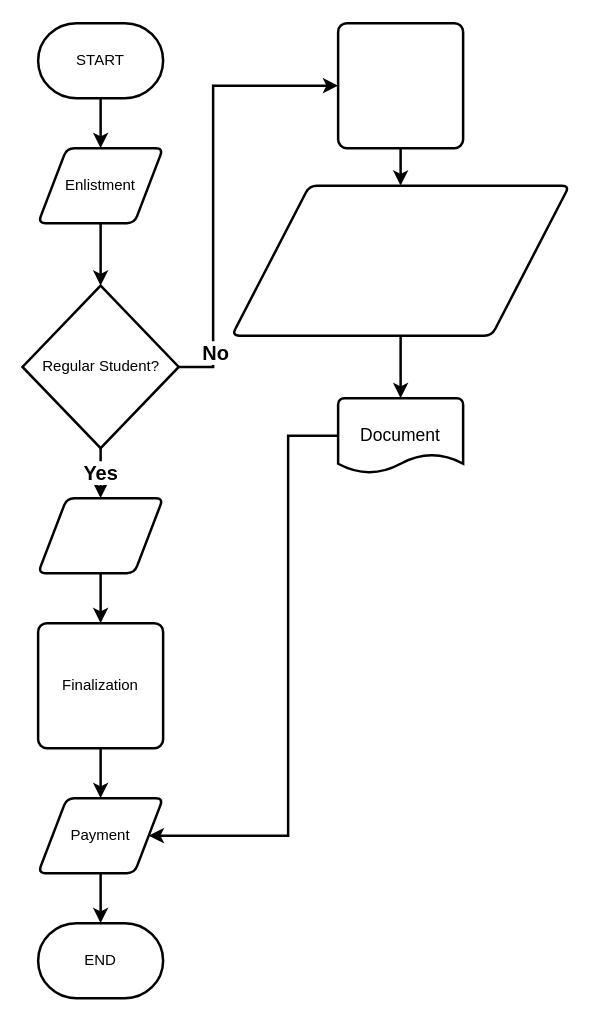
Image size: 593x1020. Some labels were removed from this diagram. Here are the shapes that lost their labels. From the top down, the box of each, then its label:
(336, 21, 464, 149): Program Chair Advising
(230, 184, 570, 336): Requesting Documents for petitions, advising, pre-requisite violation
(36, 496, 164, 574): Sectioning
